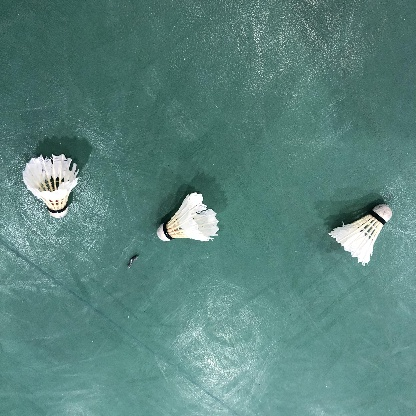ball_single: (329, 204, 392, 266), (23, 154, 79, 218), (157, 192, 219, 242)
